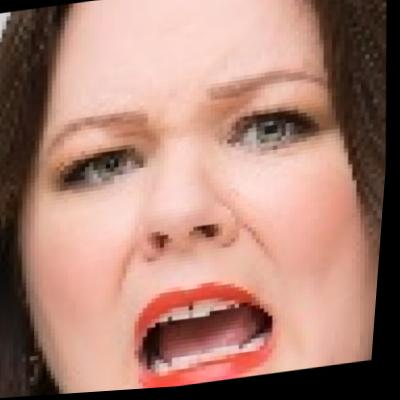angry: (4, 0, 400, 399)
